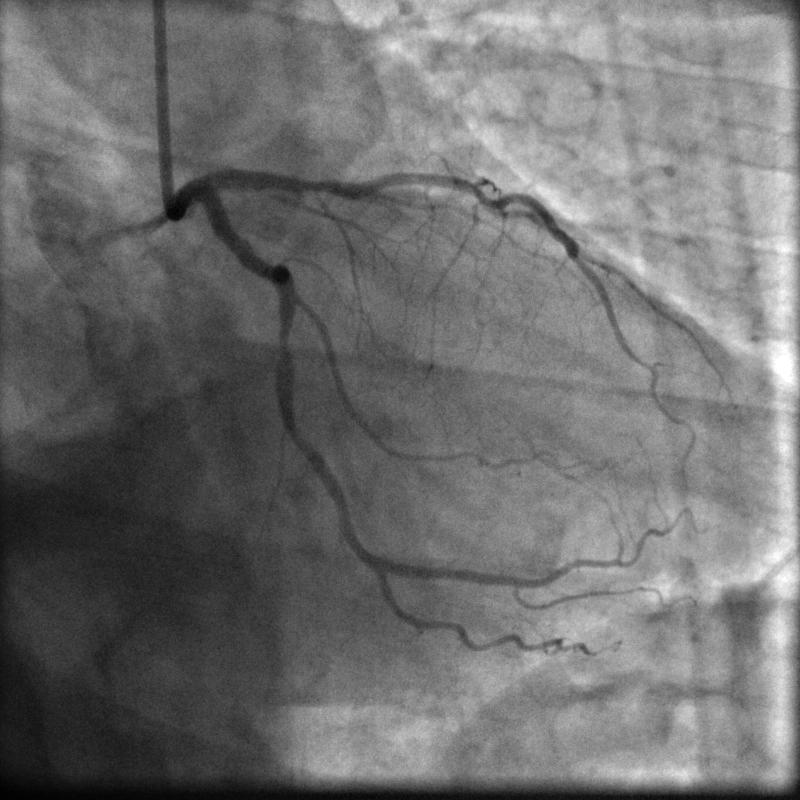Stenosis: (276, 328, 295, 355)
